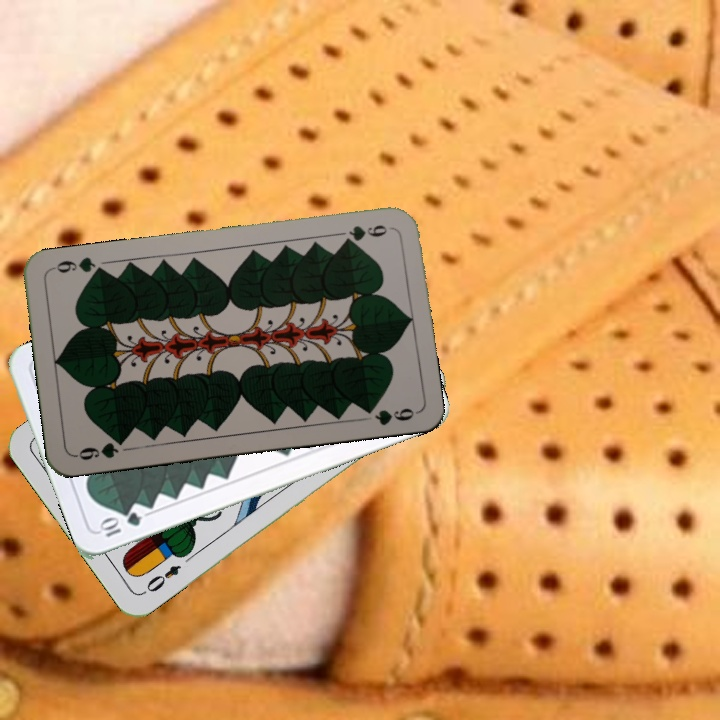EO: (142, 560, 184, 595)
G10: (95, 508, 144, 540)
G9: (71, 434, 129, 463), (339, 221, 390, 246)
